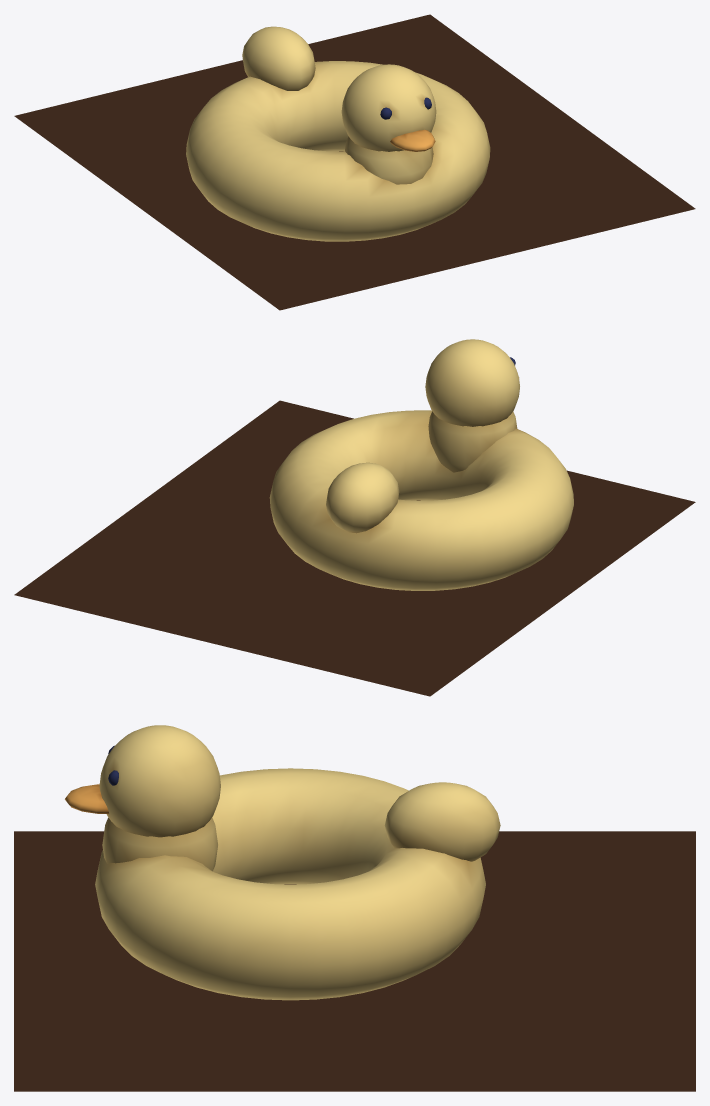
The model's file is float_duck.glb.
3 renders of one model, top to bottom at view 1: azimuth 30°, elevation 25°; view 2: azimuth 150°, elevation 25°; view 3: azimuth 270°, elevation 25°, orthographic. The views are drawn at different scales.
Visible parts, largest first — view 1: baked_shadow, ring, head, tail, neckblob, beak; view 2: baked_shadow, ring, head, tail, neckblob; view 3: baked_shadow, ring, head, tail, neckblob, beak.
Part boxes in pixels (left/top/right/bottom): baked_shadow: left=14, top=14, right=695, bottom=310; ring: left=186, top=61, right=490, bottom=241; head: left=341, top=64, right=436, bottom=151; tail: left=242, top=26, right=315, bottom=90; neckblob: left=345, top=136, right=433, bottom=184; beak: left=390, top=129, right=435, bottom=151; baked_shadow: left=14, top=400, right=695, bottom=696; ring: left=269, top=410, right=573, bottom=590; head: left=425, top=339, right=519, bottom=426; tail: left=326, top=462, right=399, bottom=533; neckblob: left=428, top=411, right=517, bottom=472; baked_shadow: left=14, top=831, right=695, bottom=1091; ring: left=95, top=768, right=485, bottom=1000; head: left=99, top=725, right=220, bottom=837; tail: left=384, top=782, right=500, bottom=861; neckblob: left=102, top=817, right=217, bottom=871; beak: left=65, top=784, right=108, bottom=813.
Bounding box in the file's own units: 4.26 × 1.57 × 4.71.
4 materials, 1 textured.
